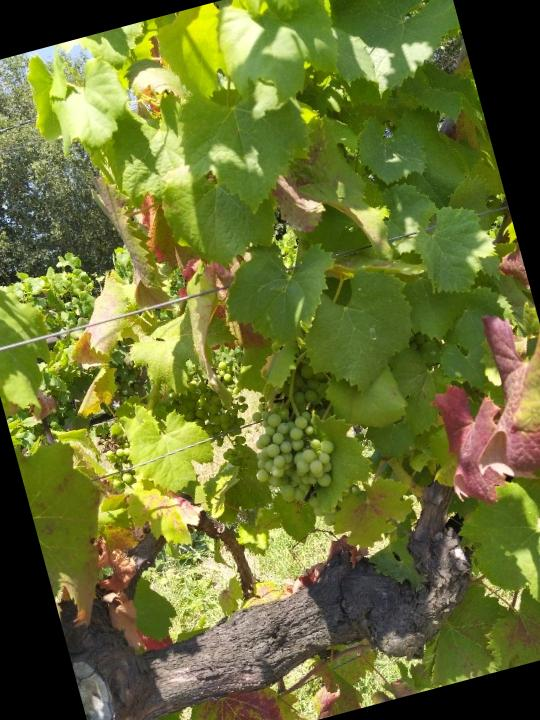grape: (227, 347, 361, 516), (160, 367, 265, 487)
